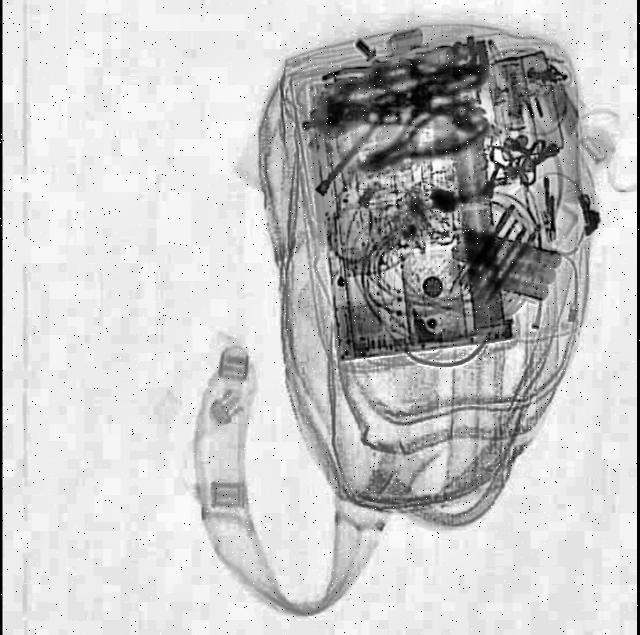Pliers: (358, 90, 495, 190)
